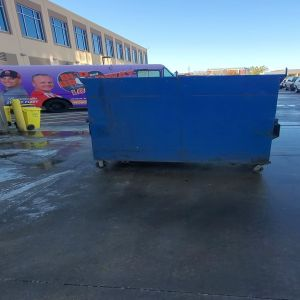Dumpster: (80, 76, 284, 176)
Person: (32, 73, 56, 97), (1, 70, 23, 92)
